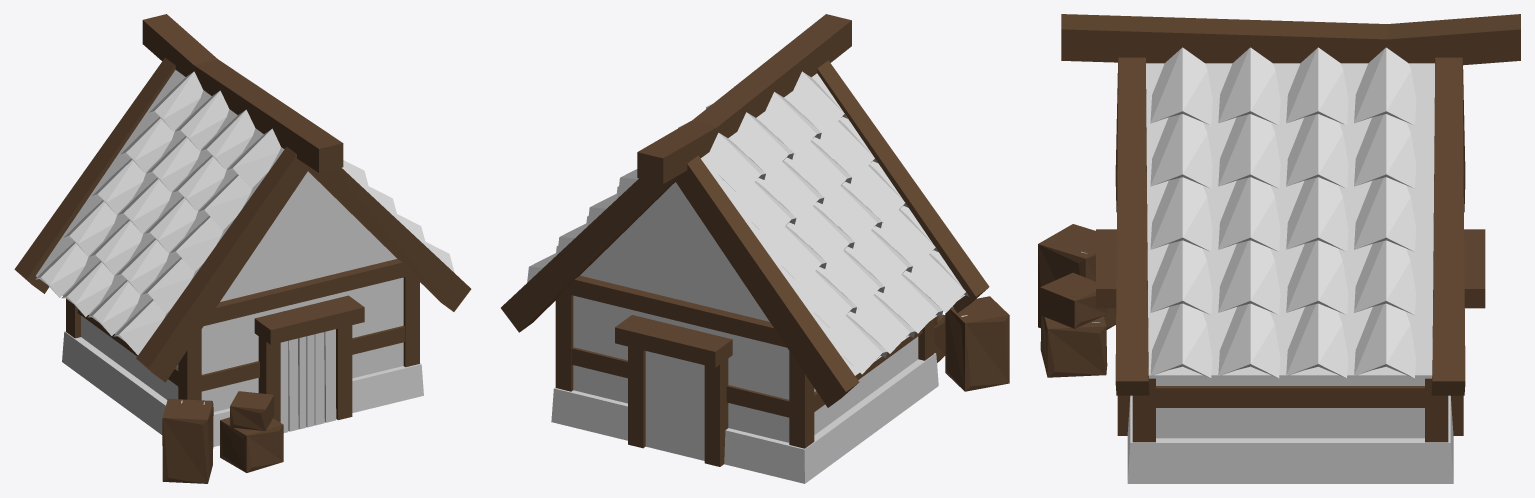
Rendered from rts_h4.glb.
The picture shows the model from 3 angles, left to right: view 1: azimuth 30°, elevation 25°; view 2: azimuth 150°, elevation 25°; view 3: azimuth 270°, elevation 25°; orthographic projection. The views are drawn at different scales.
Parts seen in each view (by area): view 1: S_HousesSecondAge1Level1; view 2: S_HousesSecondAge1Level1; view 3: S_HousesSecondAge1Level1.
Boxes of the visible parts, <box> form: S_HousesSecondAge1Level1: <box>14,14,471,483</box>; S_HousesSecondAge1Level1: <box>501,14,1009,483</box>; S_HousesSecondAge1Level1: <box>1038,14,1520,483</box>.
Bounding box in the file's own units: 0.89 × 0.7696 × 0.8645.
